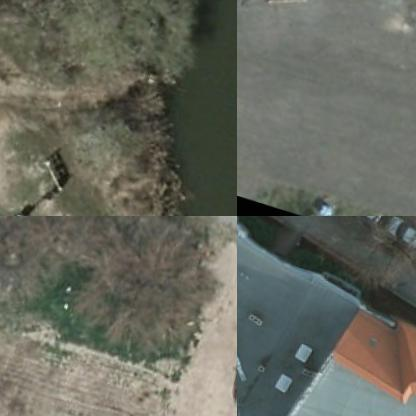car: (384, 216, 415, 247)
